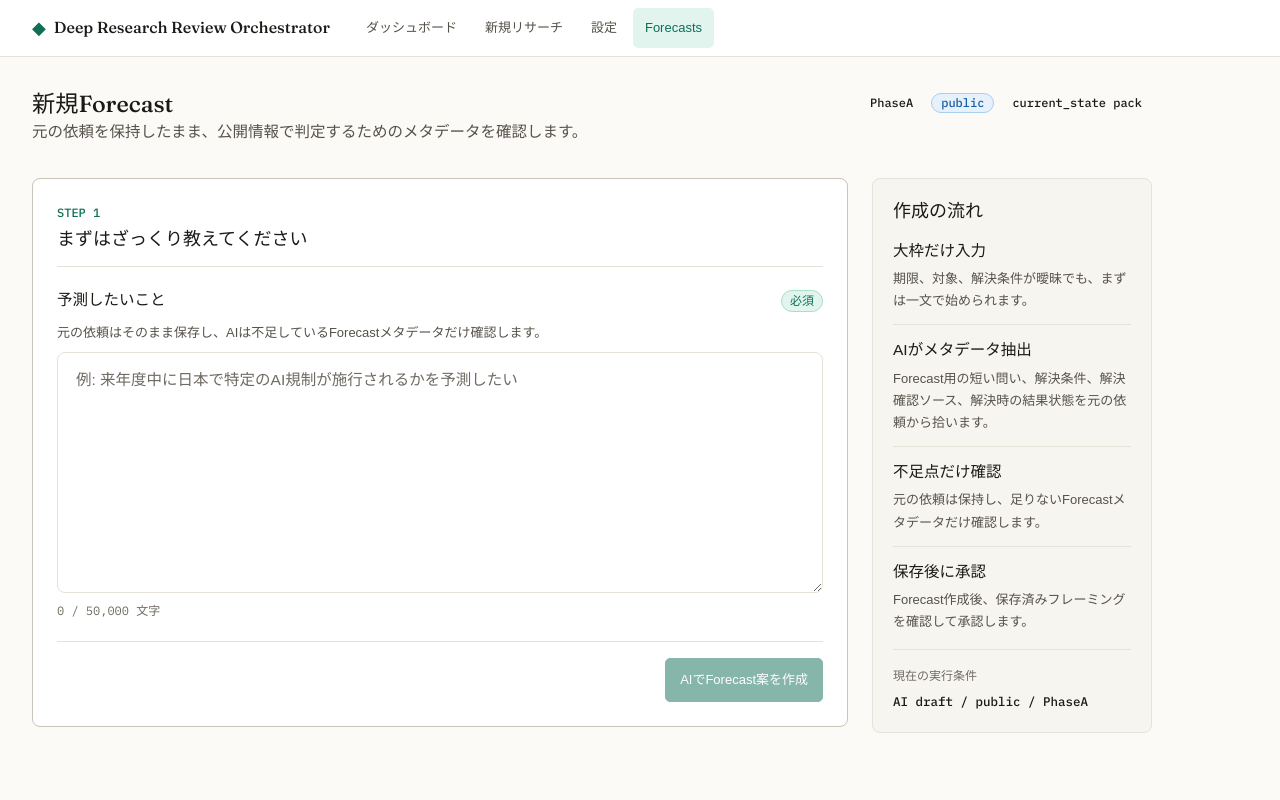
Test: Forecast UI › localizes framing warning codes without repeating duplicate messages
Type "Will the product launch?" into the text box labelled "予測したいこと" at (440, 472), box left=57, top=352, right=823, bottom=593
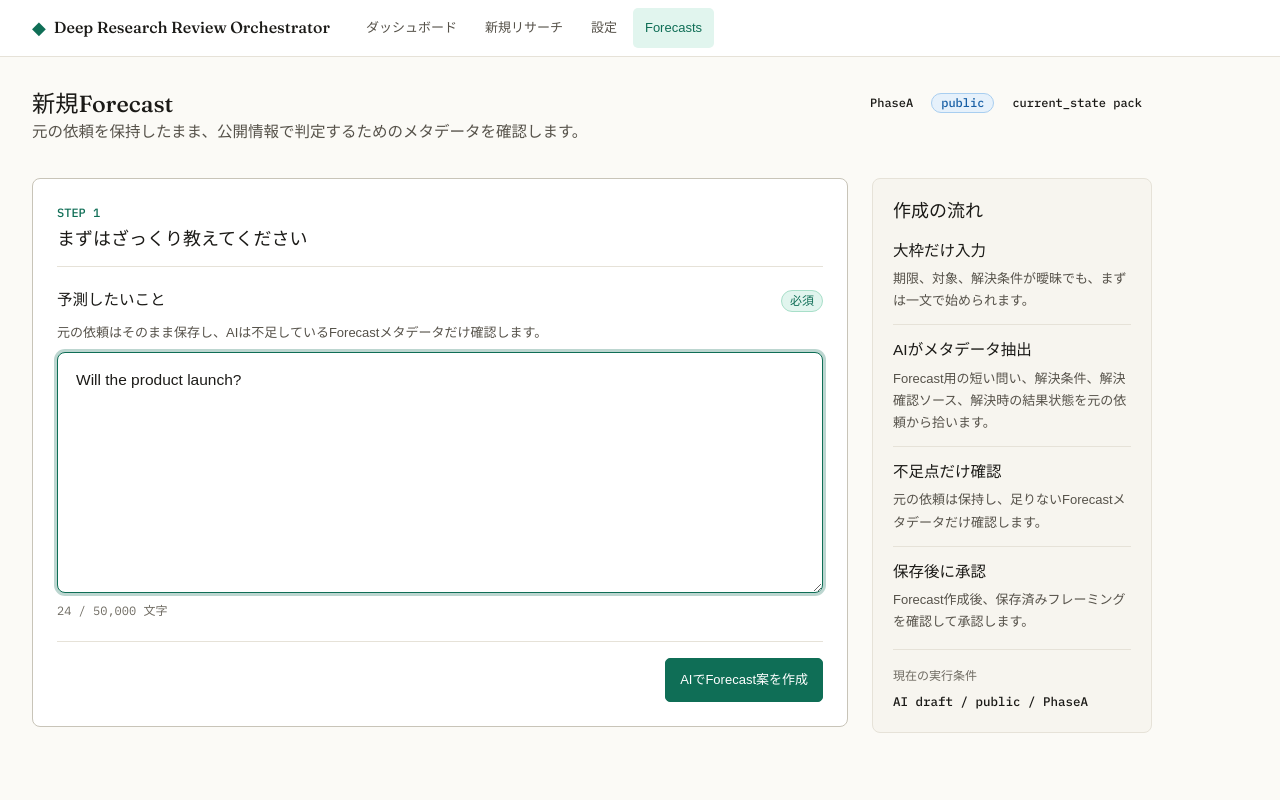
Click the button "AIでForecast案を作成" at (744, 680), box left=665, top=658, right=823, bottom=702
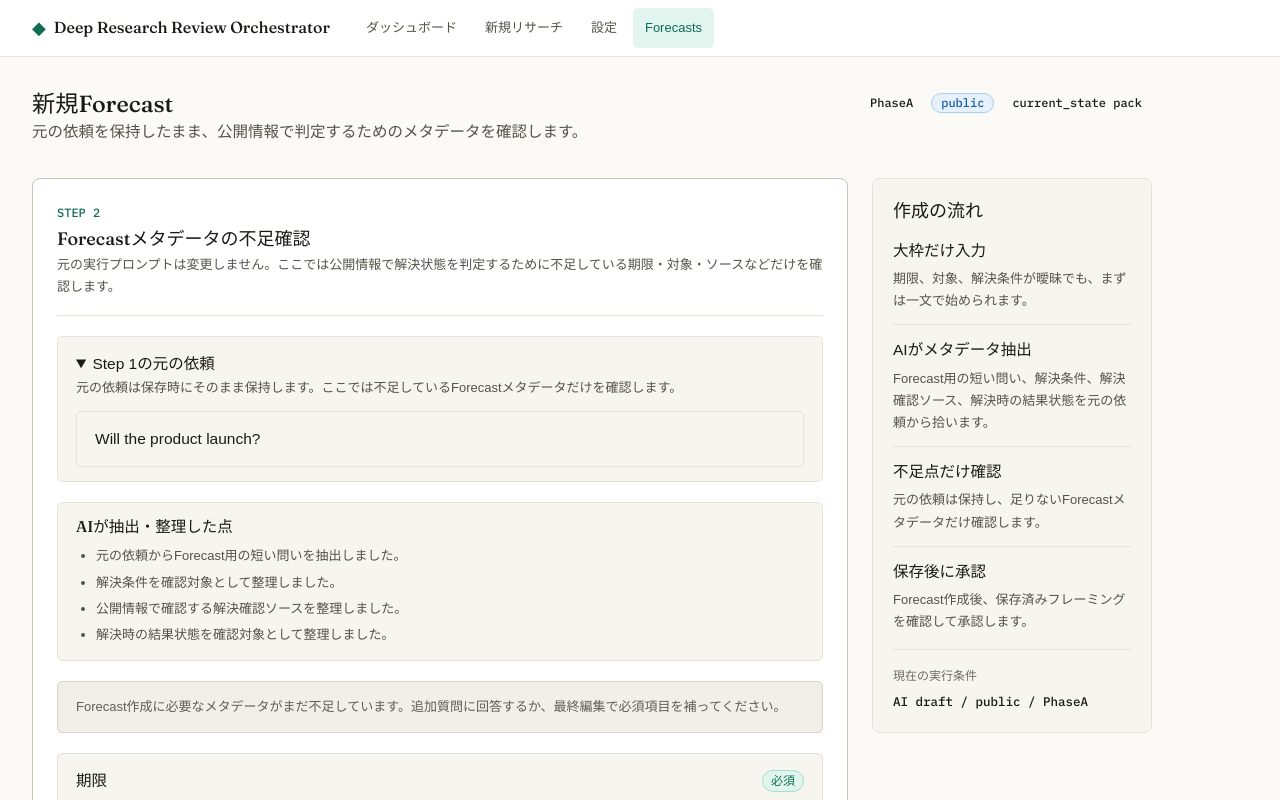
Expected: the text "Forecast作成に必要なメタデータがまだ不足しています。追加質問に回答するか、最終編集で必須項目を補ってください。" is shown once, left=76, top=696, right=804, bottom=718
